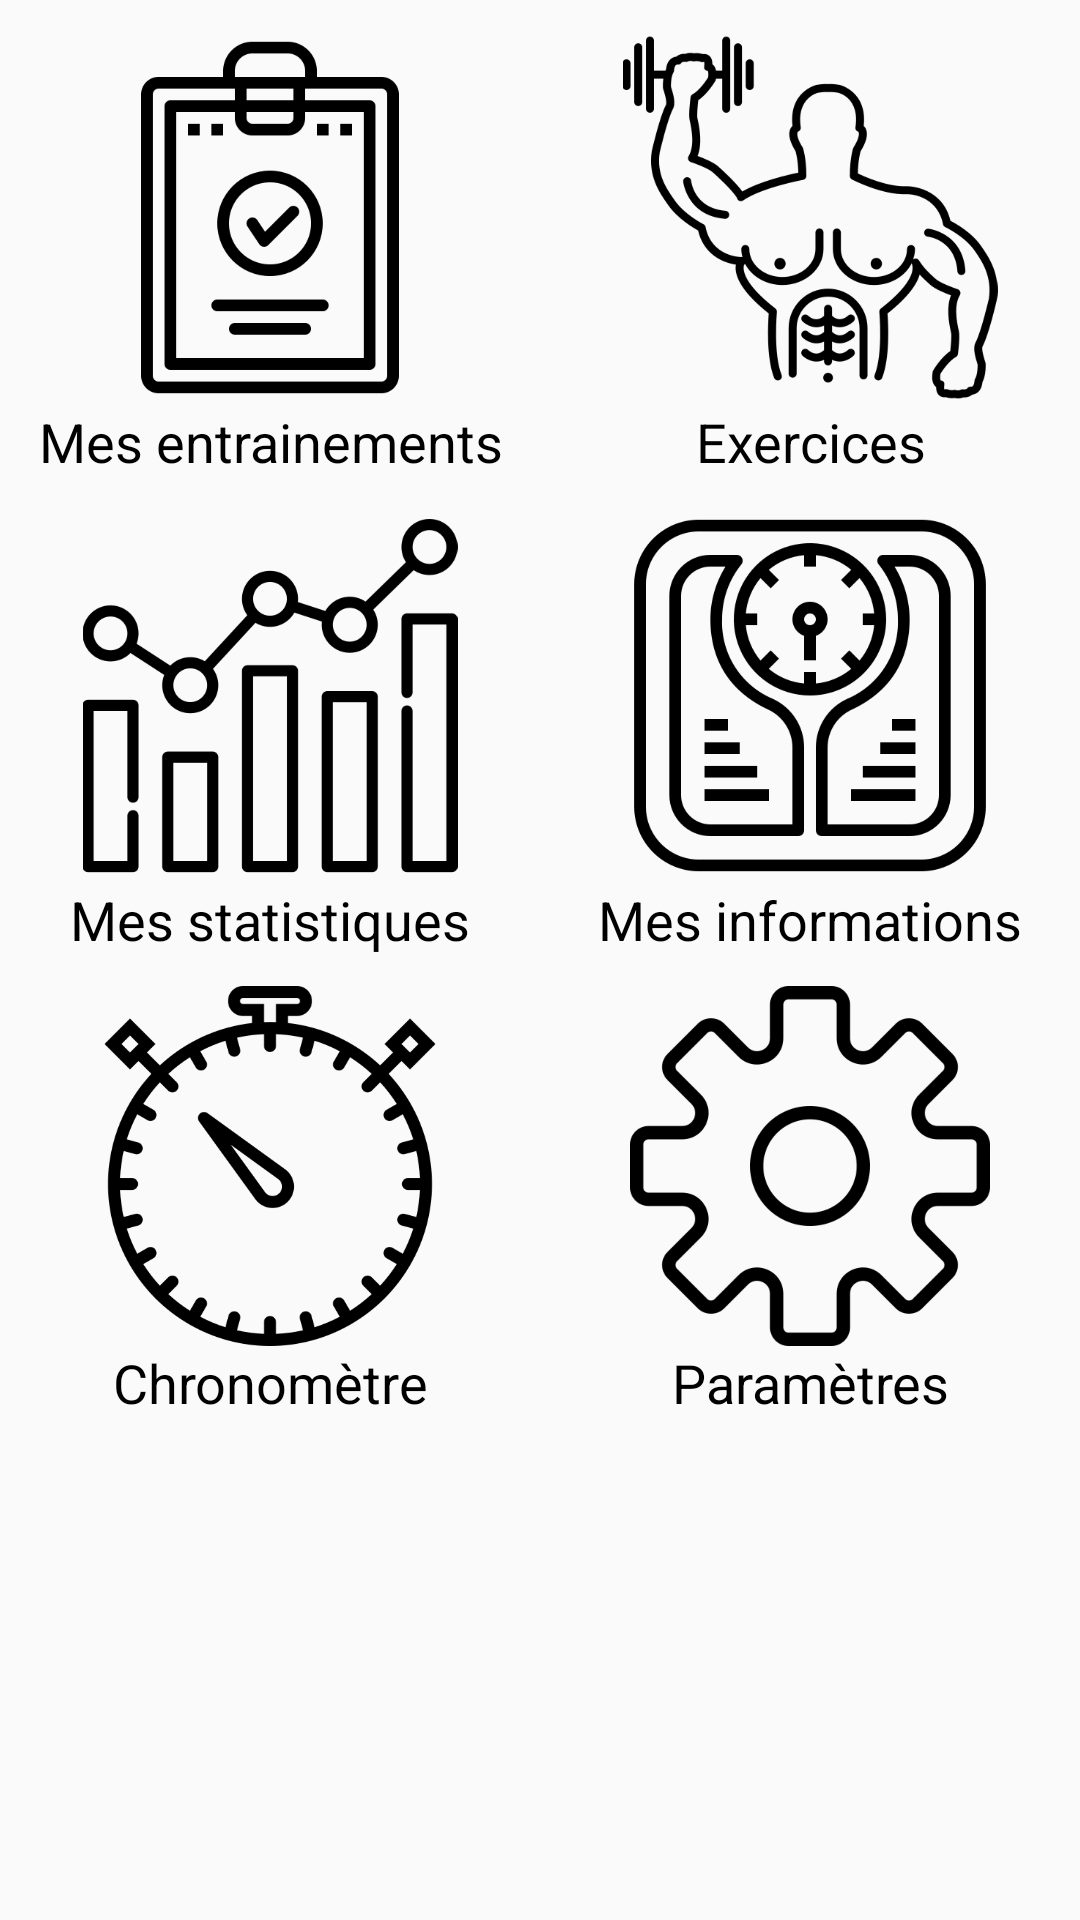

Screen size 1080×1920. Icon name, then its box in pixels as (x1, y1, x2, y2):
alarme: (105, 986, 435, 1346)
carnetmuscu: (141, 41, 399, 394)
